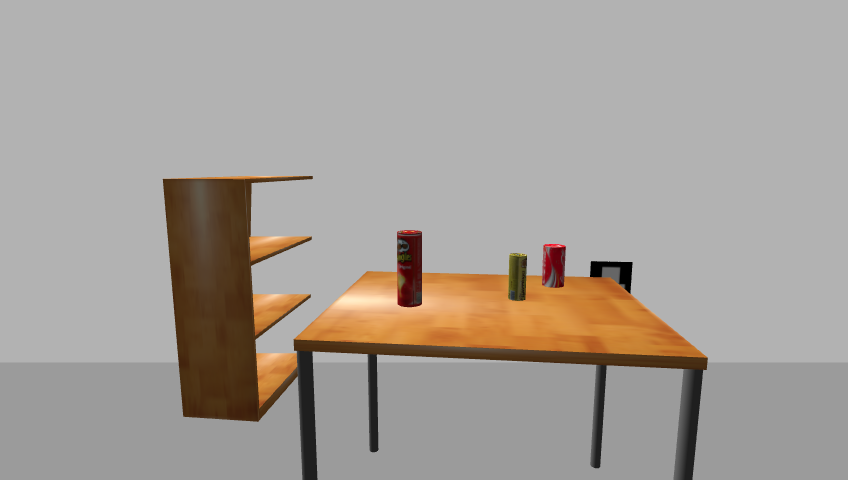aruco marker: (586, 259, 637, 296)
biscuits pack: (507, 253, 527, 302)
bookshelf: (158, 173, 319, 424)
coke can: (541, 243, 567, 289)
dinner table: (289, 270, 716, 479)
pringles can: (395, 229, 424, 309)
